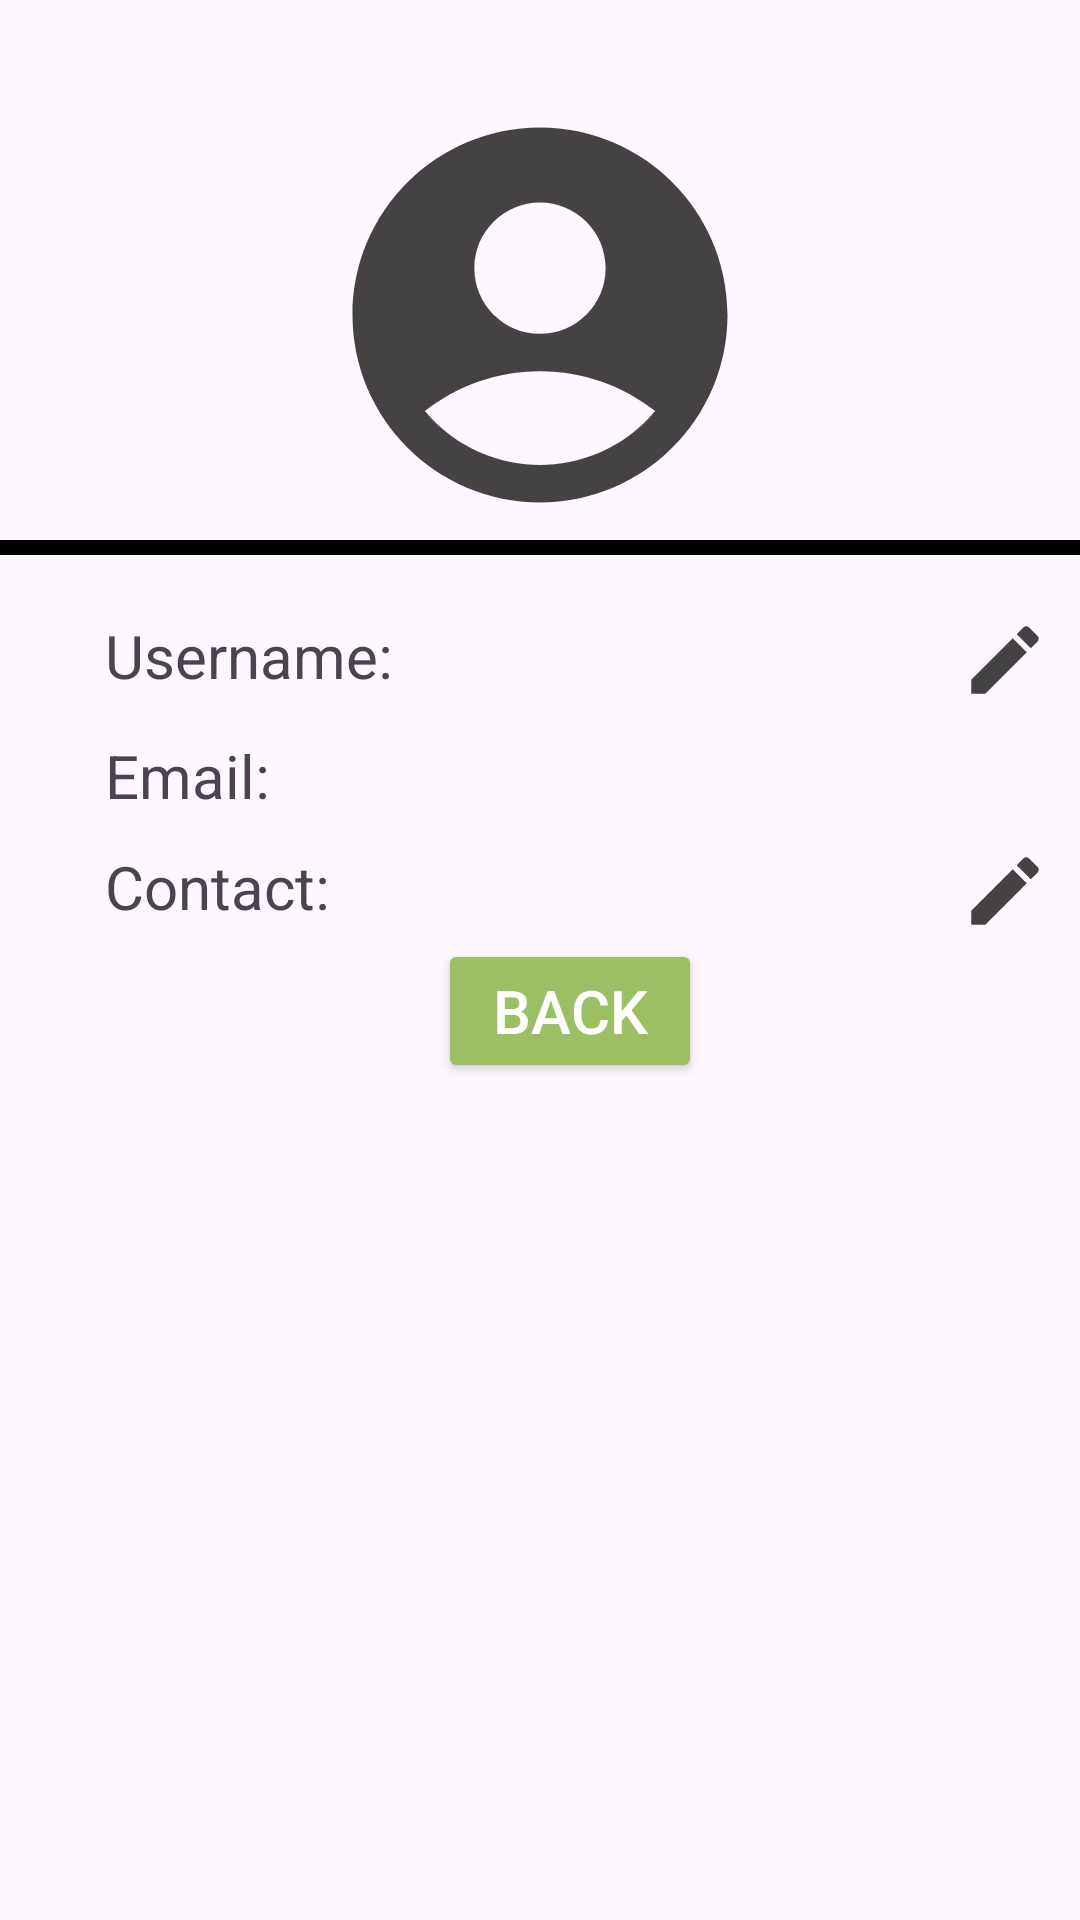

Icon click points for this 1080 x 1920 phone screenshot, format [x,y]:
edit: [1005,660], [1005,891]
